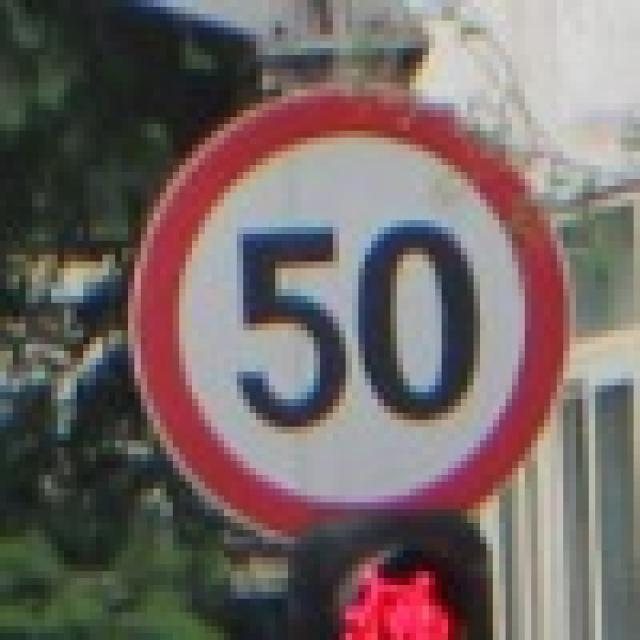Speed Limit -50-: (229, 216, 484, 430)
